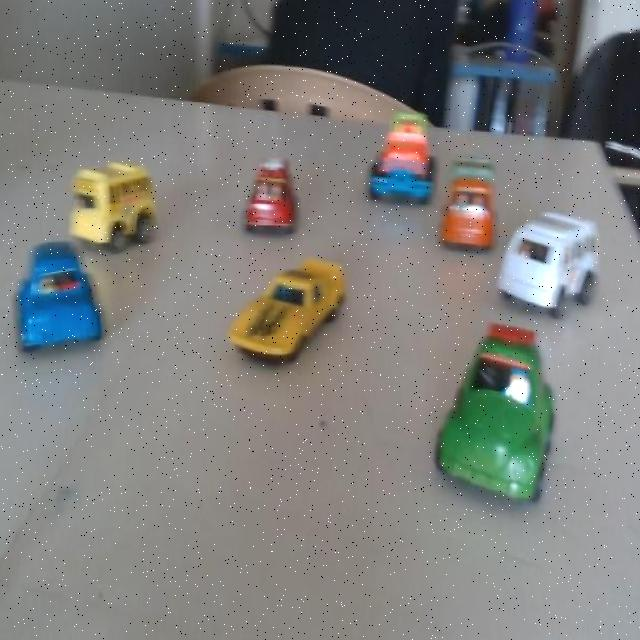car: (402, 302, 624, 568), (472, 166, 633, 364), (216, 241, 375, 387), (10, 239, 106, 366), (354, 98, 440, 207), (80, 164, 167, 264), (438, 144, 507, 267), (244, 153, 310, 247)
